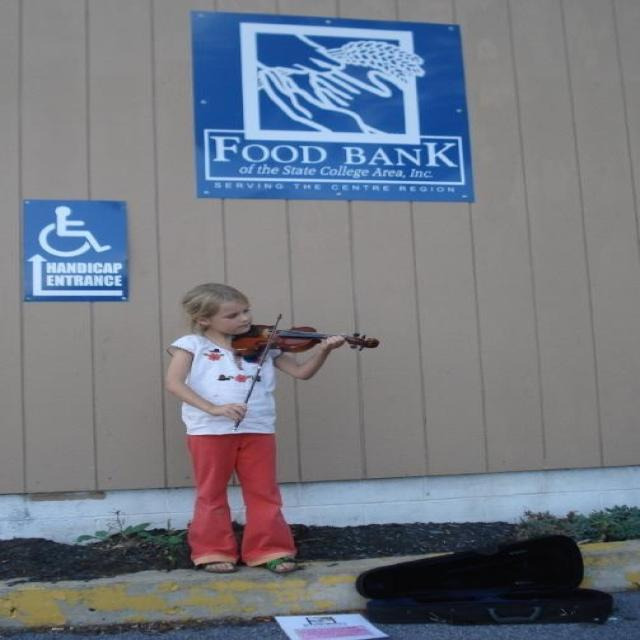violin: (233, 322, 389, 356)
